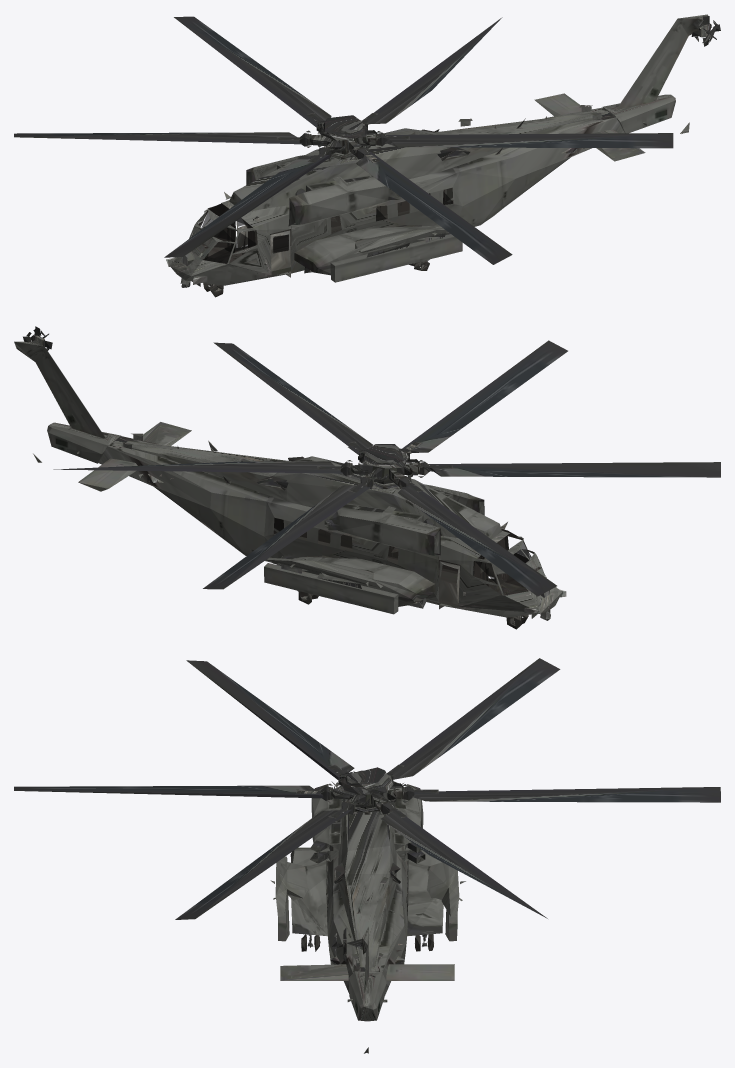
3 views of the same model, one above another, from view 1: azimuth 30°, elevation 25°; view 2: azimuth 150°, elevation 25°; view 3: azimuth 270°, elevation 25° (orthographic). The views are drawn at different scales.
Parts seen in each view (by area): view 1: Object_8, Object_4, Object_5, Object_3, Object_2, Object_13, Object_10, Object_7, Object_9, Object_6; view 2: Object_8, Object_4, Object_3, Object_2, Object_5, Object_13, Object_10, Object_7, Object_9, Object_6; view 3: Object_8, Object_4, Object_2, Object_3, Object_10, Object_9, Object_13.
Part boxes in pixels (x1=…): Object_8: x1=14, y1=16, x2=703, y2=284; Object_4: x1=246, y1=155, x2=462, y2=282; Object_5: x1=170, y1=14, x2=708, y2=285; Object_3: x1=421, y1=93, x2=689, y2=226; Object_2: x1=229, y1=112, x2=602, y2=211; Object_13: x1=203, y1=166, x2=462, y2=297; Object_10: x1=180, y1=16, x2=720, y2=291; Object_7: x1=190, y1=187, x2=453, y2=278; Object_9: x1=196, y1=94, x2=675, y2=265; Object_6: x1=198, y1=192, x2=453, y2=263; Object_8: x1=31, y1=340, x2=720, y2=614; Object_4: x1=264, y1=484, x2=484, y2=614; Object_3: x1=33, y1=422, x2=304, y2=562; Object_2: x1=121, y1=440, x2=501, y2=539; Object_5: x1=14, y1=341, x2=561, y2=617; Object_13: x1=264, y1=496, x2=528, y2=629; Object_10: x1=23, y1=326, x2=550, y2=622; Object_7: x1=200, y1=518, x2=542, y2=610; Object_9: x1=47, y1=422, x2=545, y2=575; Object_6: x1=273, y1=518, x2=531, y2=583; Object_8: x1=14, y1=658, x2=720, y2=946; Object_4: x1=270, y1=784, x2=465, y2=941; Object_2: x1=328, y1=798, x2=406, y2=967; Object_3: x1=280, y1=863, x2=454, y2=1053; Object_10: x1=273, y1=764, x2=462, y2=1002; Object_9: x1=326, y1=781, x2=408, y2=1021; Object_13: x1=301, y1=845, x2=433, y2=951.
Size of the model in its own units: 231 by 60.06 by 213.
10 materials, 9 textured.
